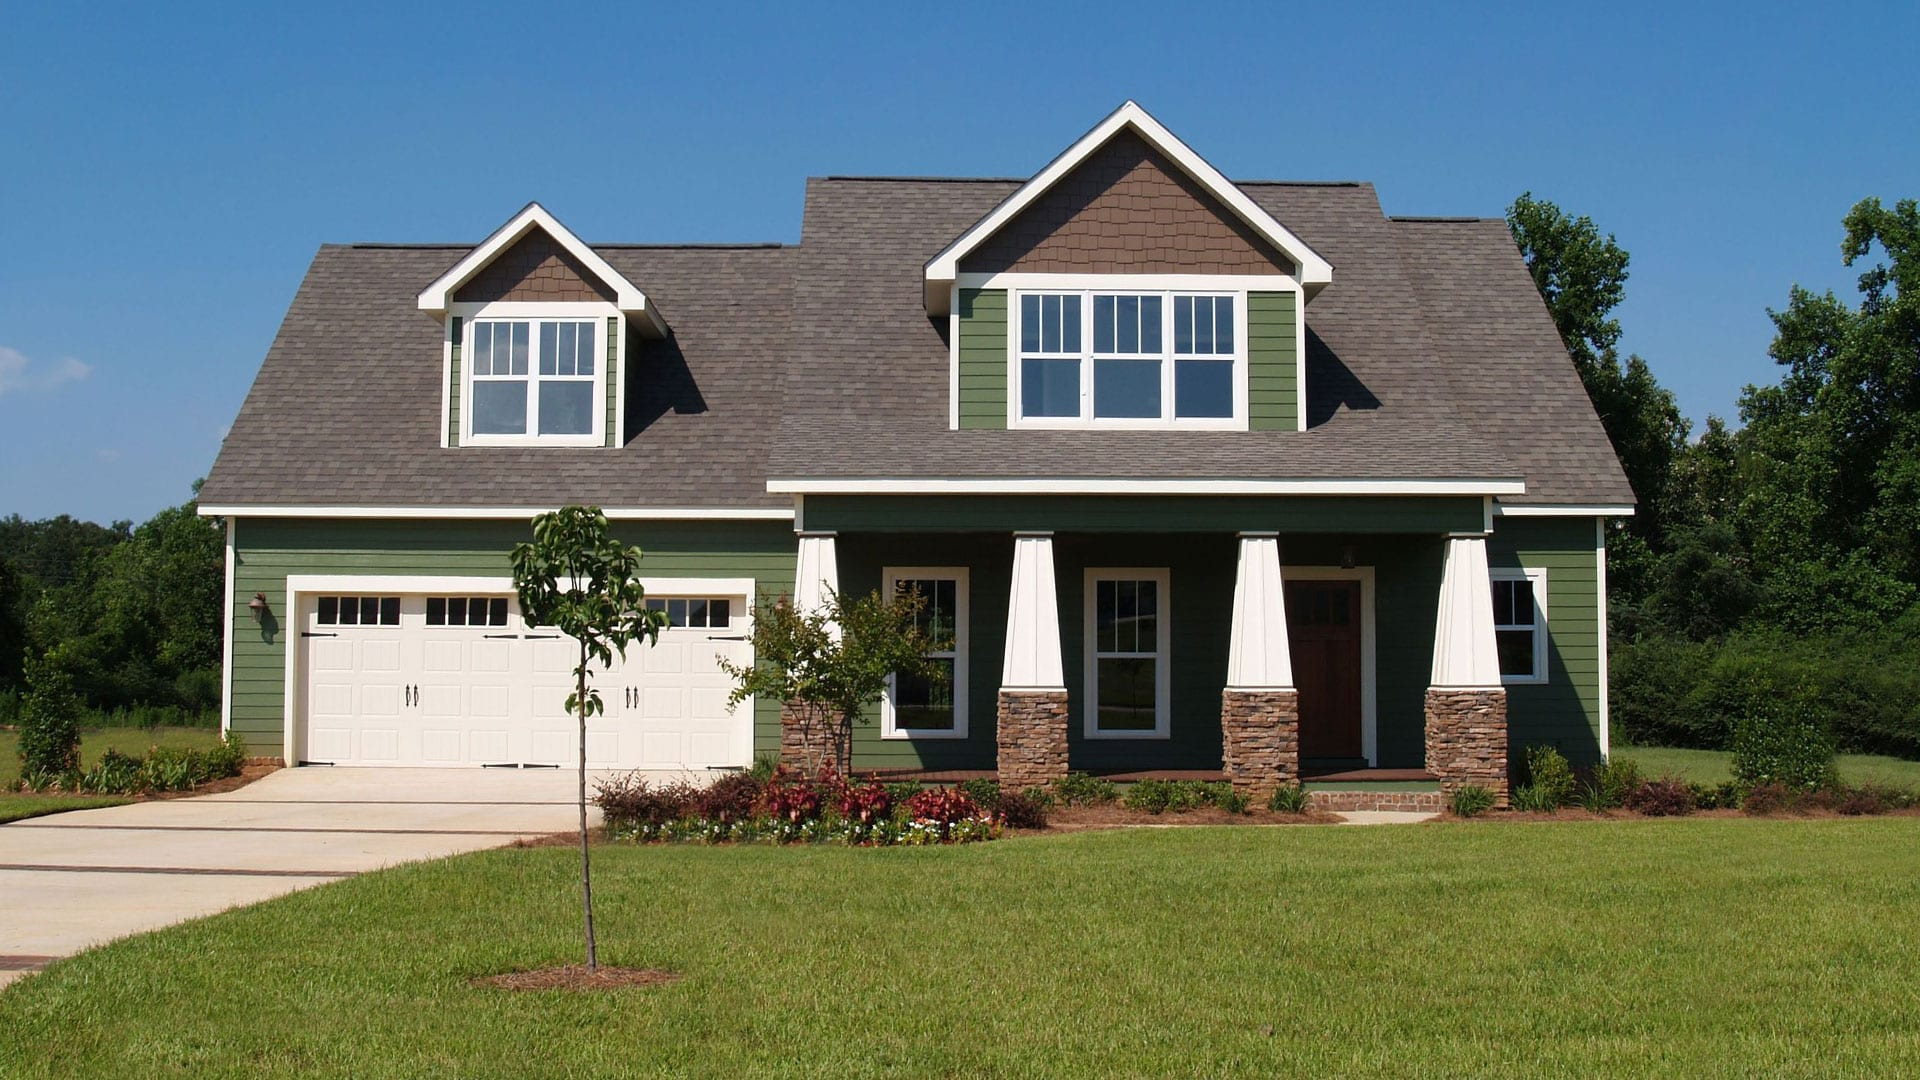Person: (194, 93, 1697, 819)
